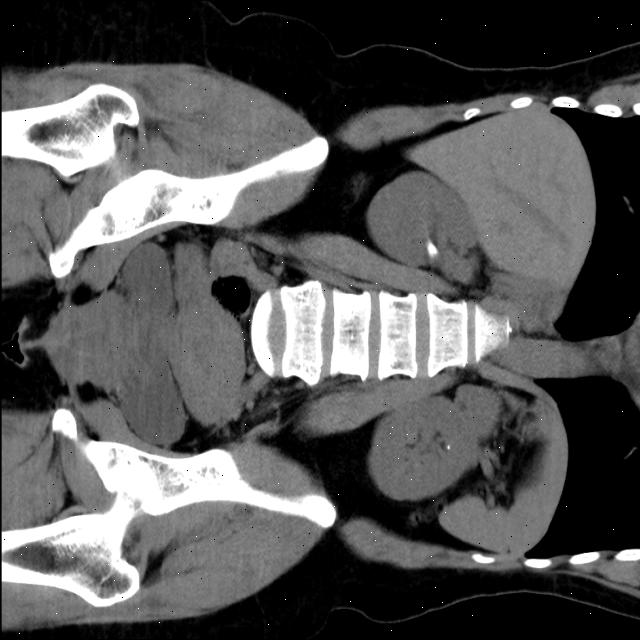kidneystone: (438, 437, 451, 454), (426, 242, 438, 258)
